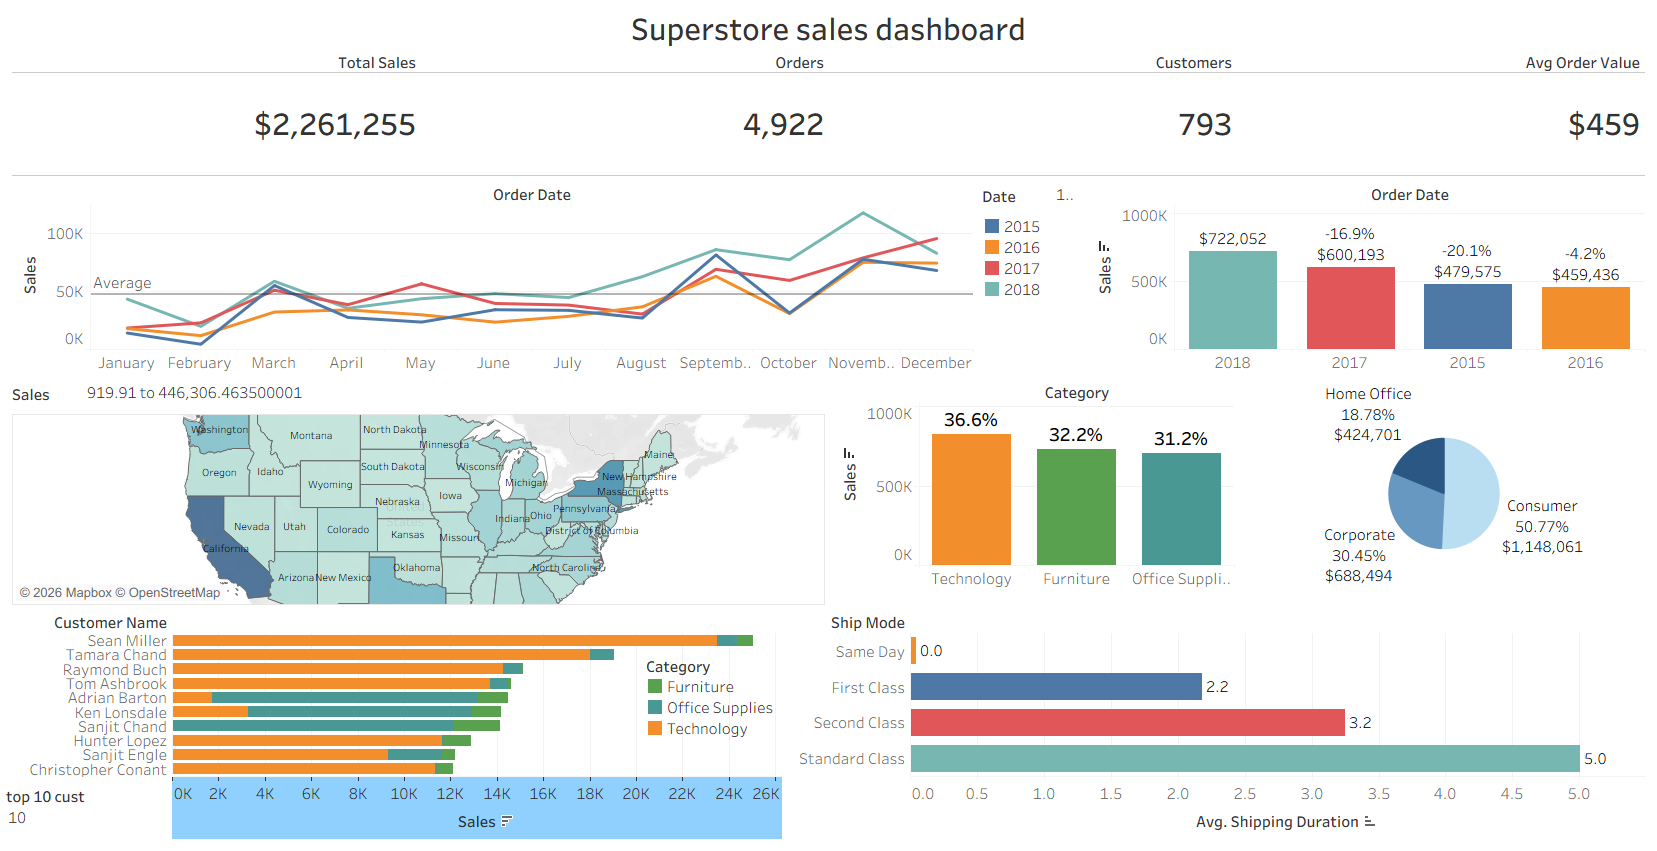

The dashboard page shown, as its layout file describes it:
{"tool":"tableau","page":{"name":"Superstore sales dashboard","canvas":[1000,1000],"units":"permille","ordinal":0},"visuals":[{"type":"title","box":[4.8,9.4,990.3,47]},{"type":"worksheet","title":"Cards","mark":"Automatic","box":[4.8,56.4,990.3,155.1]},{"type":"worksheet","title":"Monthly trend","mark":"Automatic","rows":["Sales"],"cols":["Order Date"],"box":[4.8,211.5,585.4,232.9]},{"type":"parameter","param":"[Parameters].[Parameter 0706495930396679]","box":[590.2,211.5,63.3,37.6]},{"type":"worksheet","title":"year by year growth","mark":"Bar","rows":["Sales"],"cols":["Order Date"],"box":[653.6,211.5,341.6,232.9]},{"type":"legend","title":"Monthly trend","param":"[federated.0xjborn1b0jx4810auvav1n9ca1h].[yr:Order Date:ok]","box":[590.2,249.1,63.3,195.3]},{"type":"filter","title":"Map Sales","param":"[federated.0xjborn1b0jx4810auvav1n9ca1h].[sum:Sales:qk]","box":[4.8,444.4,495.2,37.3]},{"type":"worksheet","title":"category vs sales","mark":"Automatic","rows":["Sales"],"cols":["Category"],"box":[500,444.4,247.6,270.9]},{"type":"worksheet","title":"Pie","mark":"Pie","box":[747.6,444.4,247.6,270.9]},{"type":"worksheet","title":"Map Sales","mark":"Multipolygon","box":[4.8,481.8,495.2,233.6]},{"type":"worksheet","title":"Top 10 cust","mark":"Automatic","rows":["Customer Name"],"cols":["Sales"],"box":[4.8,715.4,469.5,275.2]},{"type":"worksheet","title":"Shipmode avg","mark":"Automatic","rows":["Ship Mode"],"cols":["Shipping Duration"],"box":[474.3,715.4,520.9,275.2]},{"type":"legend","title":"Top 10 cust","param":"[federated.0xjborn1b0jx4810auvav1n9ca1h].[none:Category:nk]","box":[389.3,768.5,84.5,99.9]},{"type":"parameter","param":"[Parameters].[Parameter 0706496082333717]","box":[3.6,922.4,98.4,70.5]}]}

Visuals, with their boxes on the dashboard's canvas, which has no fixed pixel size, in thousandths of its width and height (x1, y1, x2, y2). These are canvas units, not pixel positions in the 1657x851 screenshot, which may show the page scaled, cropped or inside an application window:
title: BBox(5, 9, 995, 56)
"Cards" worksheet: BBox(5, 56, 995, 212)
"Monthly trend" worksheet: BBox(5, 212, 590, 444)
parameter: BBox(590, 212, 654, 249)
"year by year growth" worksheet (Bar marks): BBox(654, 212, 995, 444)
"Monthly trend" legend: BBox(590, 249, 654, 444)
"Map Sales" filter: BBox(5, 444, 500, 482)
"category vs sales" worksheet: BBox(500, 444, 748, 715)
"Pie" worksheet (Pie marks): BBox(748, 444, 995, 715)
"Map Sales" worksheet (Multipolygon marks): BBox(5, 482, 500, 715)
"Top 10 cust" worksheet: BBox(5, 715, 474, 991)
"Shipmode avg" worksheet: BBox(474, 715, 995, 991)
"Top 10 cust" legend: BBox(389, 768, 474, 868)
parameter: BBox(4, 922, 102, 993)
